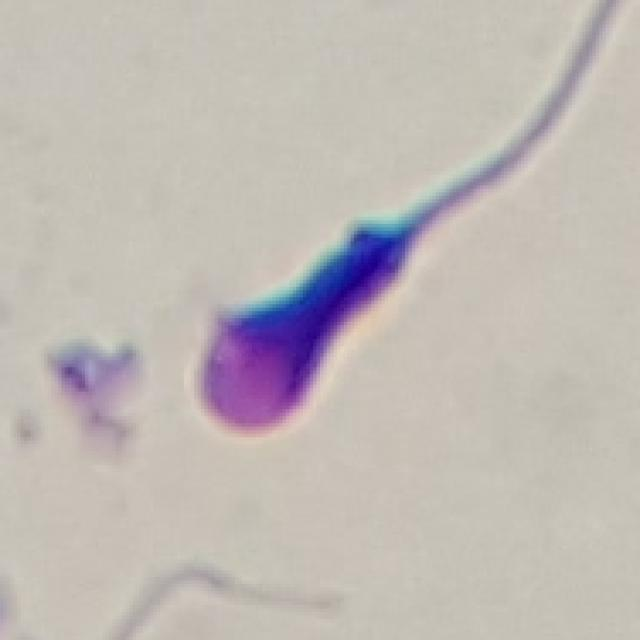abnormal sperm: (195, 86, 570, 436)
